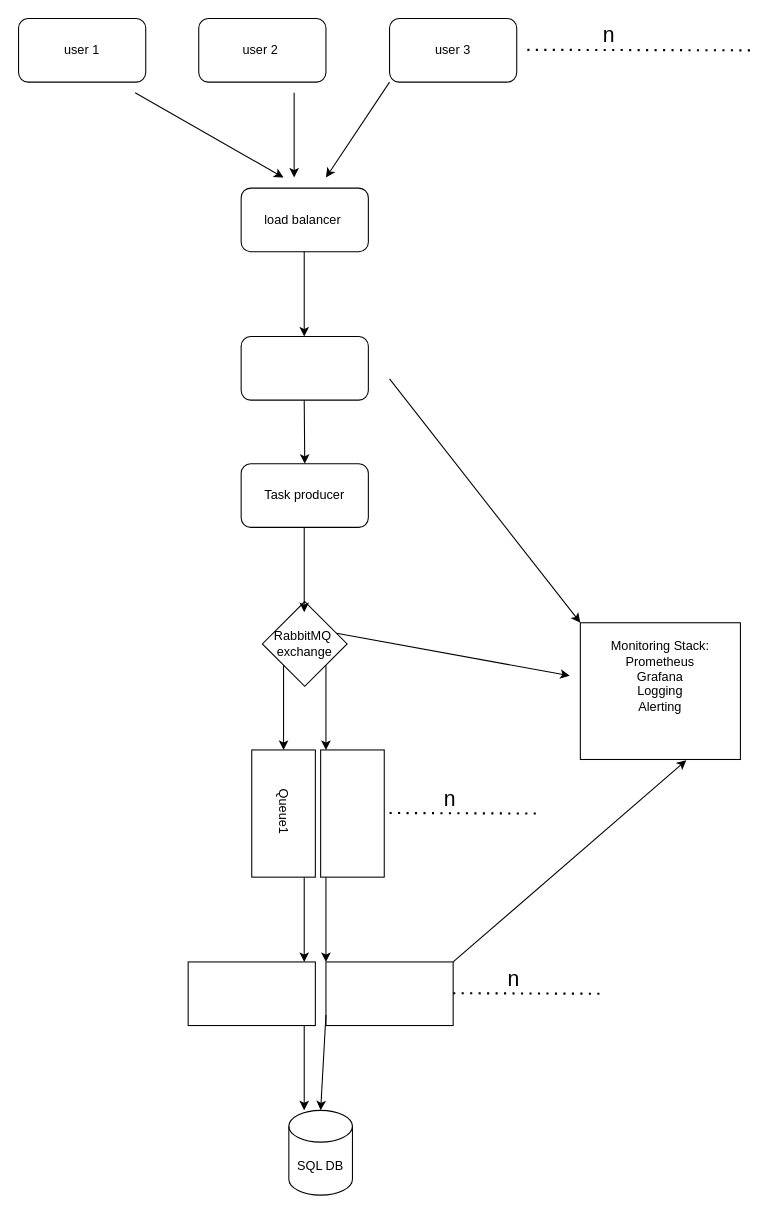
Image size: 771x1214. Some labels were removed from this diagram. Each missing label, with the centre of its shape:
"API" goes at pixel 304 367.
"Queue 2" goes at pixel 352 813.
"Worker 1" goes at pixel 251 993.
"Worker 2" goes at pixel 389 993.
